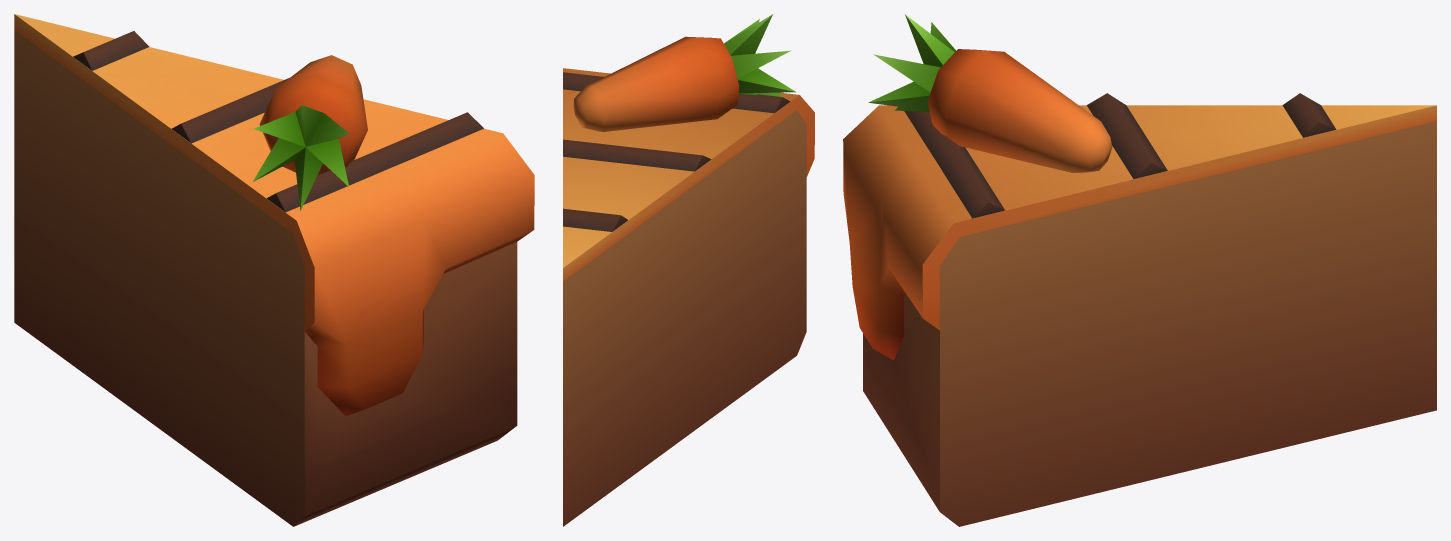
Rendered from m_CarrotCake01_Slice02.fbx.
3 views of the same model, side by side, from view 1: azimuth 30°, elevation 25°; view 2: azimuth 150°, elevation 25°; view 3: azimuth 270°, elevation 25° (orthographic). The views are drawn at different scales.
Visible parts, largest first — view 1: m_CarrotCake01_Slice02; view 2: m_CarrotCake01_Slice02; view 3: m_CarrotCake01_Slice02.
Boxes of the visible parts, left/top/right/bottom form: m_CarrotCake01_Slice02: left=14, top=14, right=534, bottom=526; m_CarrotCake01_Slice02: left=563, top=14, right=814, bottom=526; m_CarrotCake01_Slice02: left=843, top=14, right=1436, bottom=526.
Bounding box in the file's own units: 7.81 × 10.91 × 14.48.
